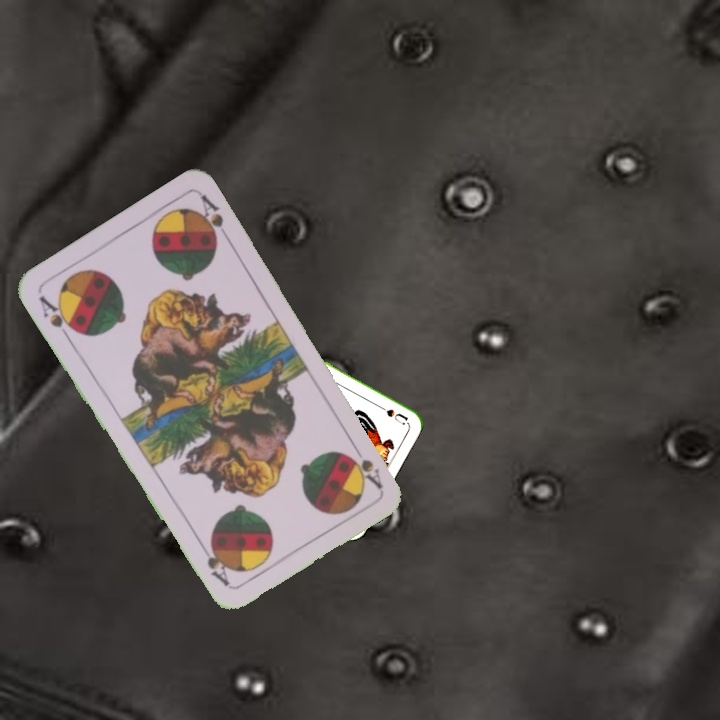SA: (35, 291, 81, 343), (346, 438, 385, 491)
SU: (371, 400, 410, 427)
